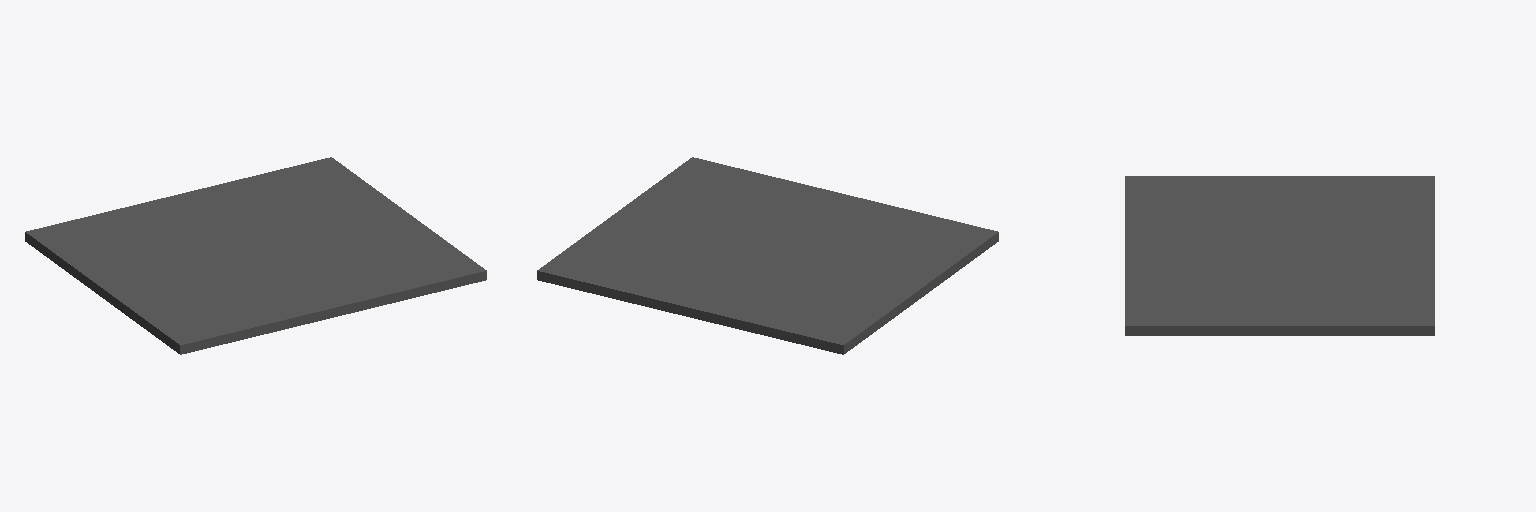
File: floor.obj
3 views of the same model, side by side, from view 1: azimuth 30°, elevation 25°; view 2: azimuth 150°, elevation 25°; view 3: azimuth 270°, elevation 25° (orthographic).
Parts seen in each view (by area): view 1: pCube1; view 2: pCube1; view 3: pCube1.
Part boxes in pixels (x1,y1,x2,y2): pCube1: (25, 157, 486, 354); pCube1: (537, 157, 998, 354); pCube1: (1125, 176, 1434, 335).
Bounding box in the file's own units: 33.58 × 1 × 29.47.